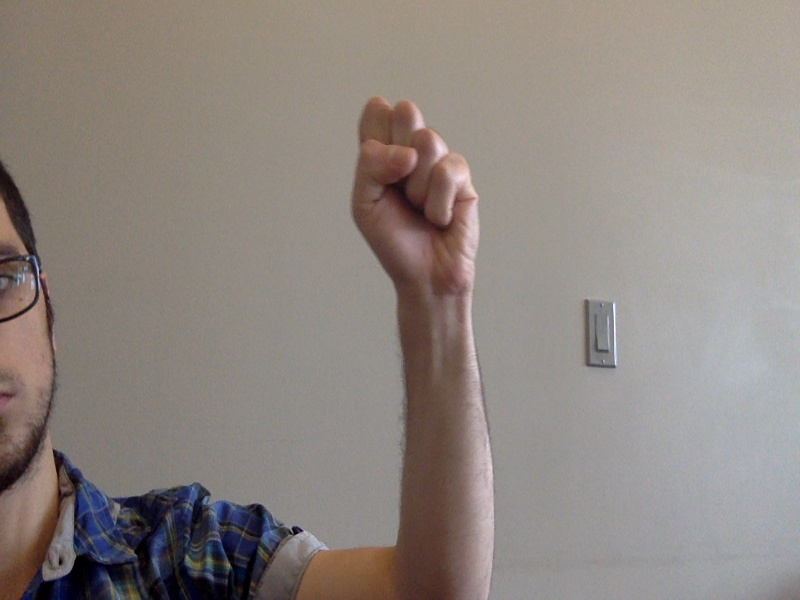0-hand: (348, 94, 480, 302)
